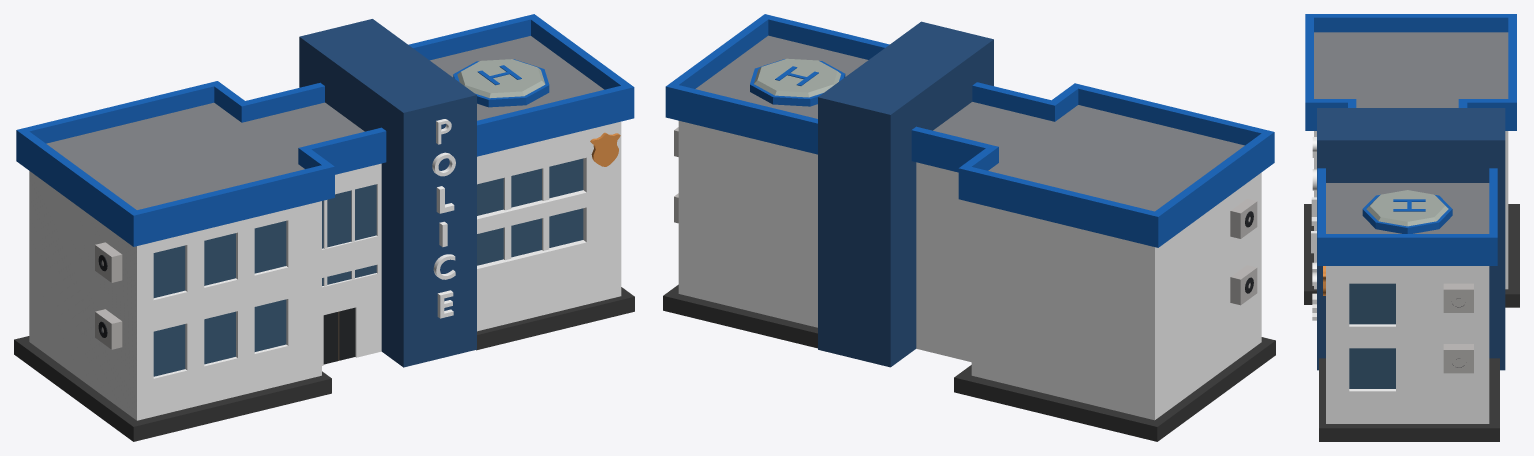
File: Police Station_1.fbx
3 renders of one model, left to right at view 1: azimuth 30°, elevation 25°; view 2: azimuth 150°, elevation 25°; view 3: azimuth 270°, elevation 25°, orthographic. The views are drawn at different scales.
Parts seen in each view (by area): view 1: Police Station_1; view 2: Police Station_1; view 3: Police Station_1.
Part boxes in pixels (x1,y1,x2,y2): Police Station_1: [14, 14, 634, 441]; Police Station_1: [663, 14, 1275, 441]; Police Station_1: [1304, 14, 1519, 441].
Size of the model in its own units: 2653 by 1257 by 1062.
